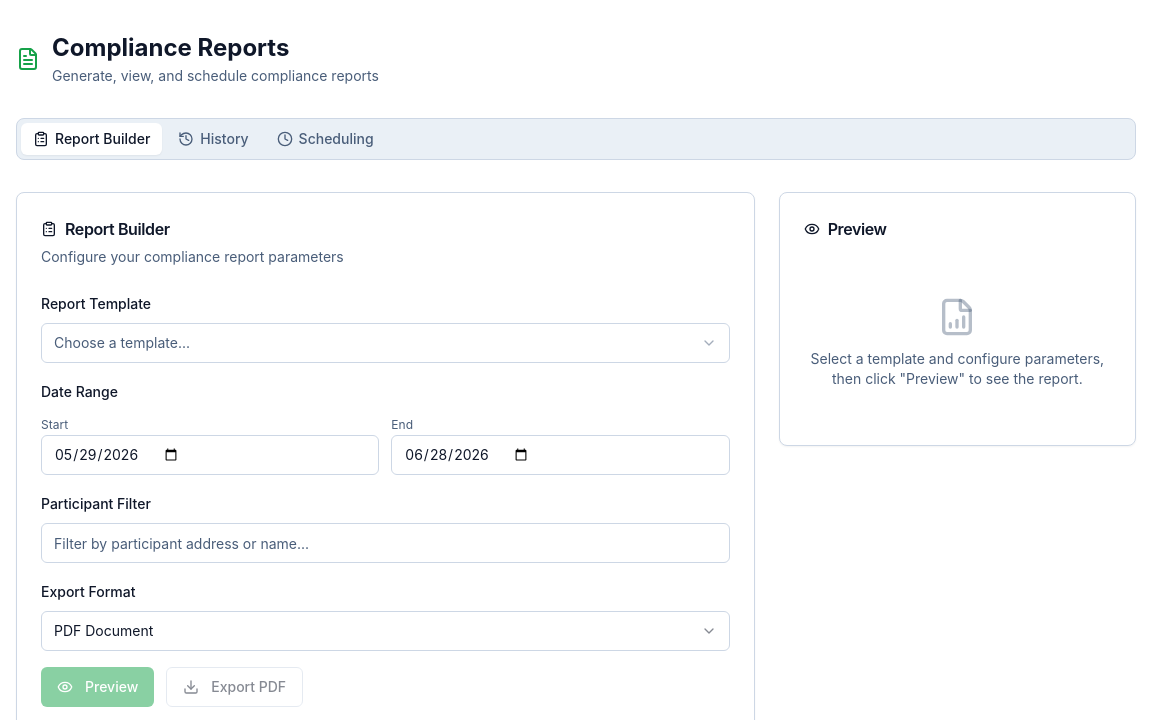
Scenario: ComplianceReportsPage › switches to scheduling tab when clicked
Click the tab "Scheduling": (325, 139) 265,123 -> 386,155
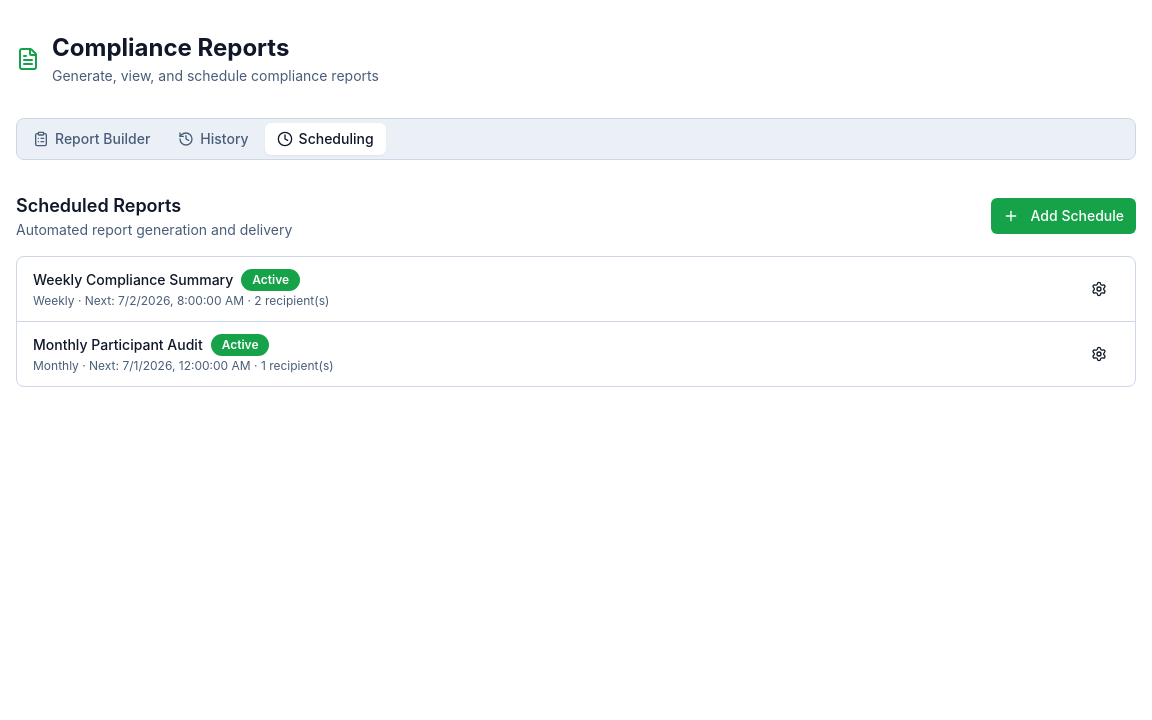
Check: the heading "Scheduled Reports" is shown, box 16,195 -> 181,216
Check: the button "Add Schedule" is shown, box 990,198 -> 1136,234
